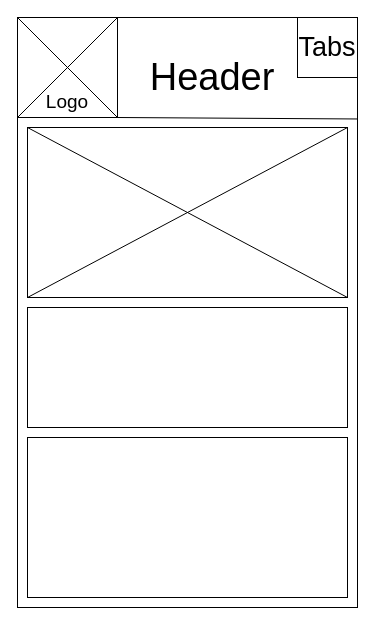
Image size: 376x625. Some labels were removed from this diagram. Here are the shapes that lost their labels. From the top down, the box of each, then its label:
(26, 306, 348, 428): Description
(26, 436, 348, 598): Hours/contact/info
